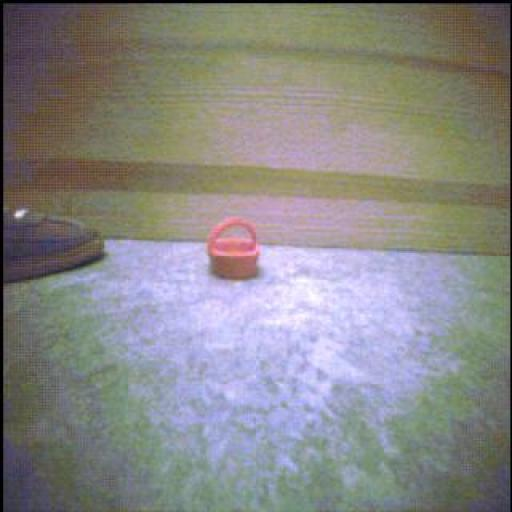Bucket: (205, 215, 268, 281)
